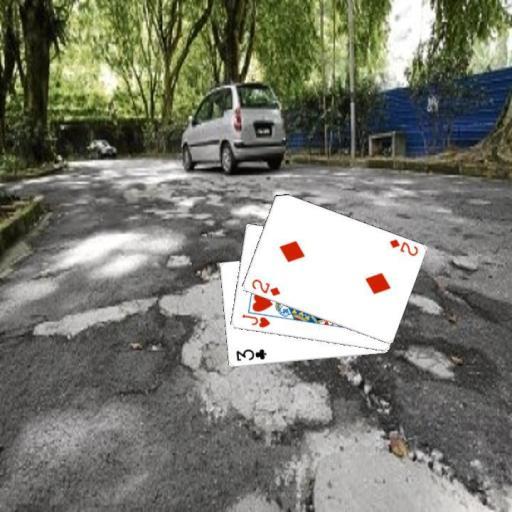2D: (386, 236, 420, 258), (248, 276, 282, 297)
3C: (233, 346, 268, 363)
JH: (239, 312, 272, 330)
